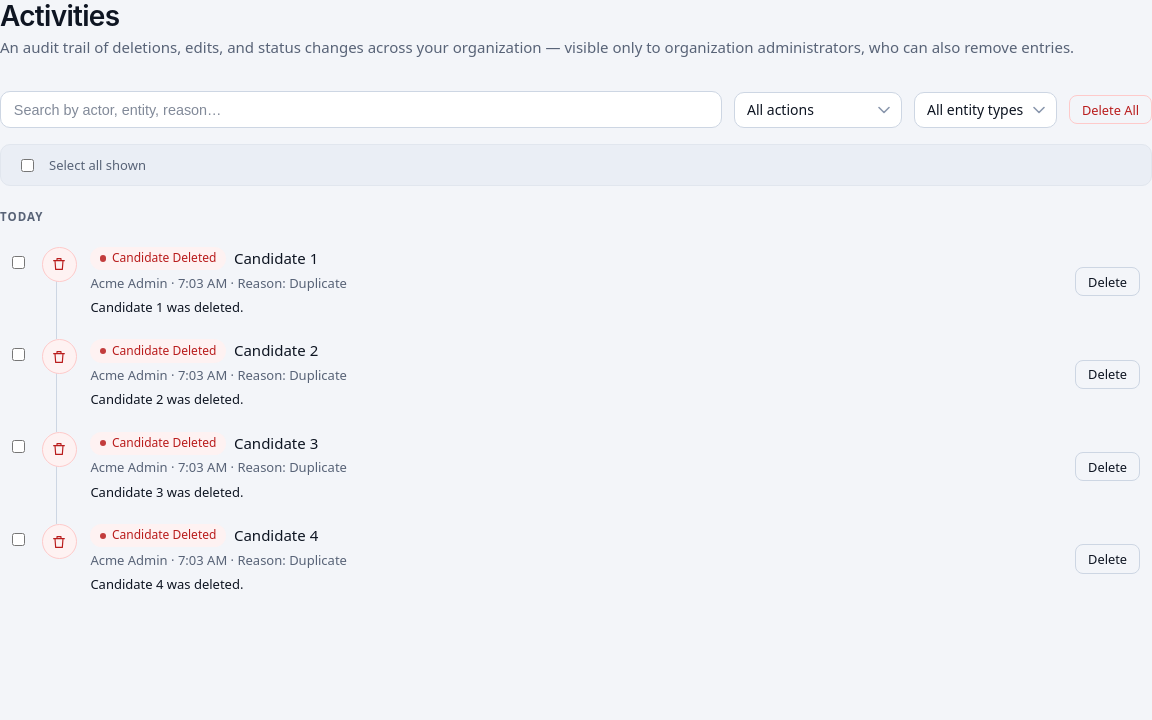
Test: ActivitiesPage selection and bulk delete › deletes exactly the selected activities after confirmation, then refreshes and clears
The width and height of the screenshot is (1152, 720).
Expected: the text "Candidate 1" is shown, [234, 247, 318, 270]
Click the checkbox named "Select activity 1: Candidate 1".
click(18, 262)  # box [12, 256, 25, 268]
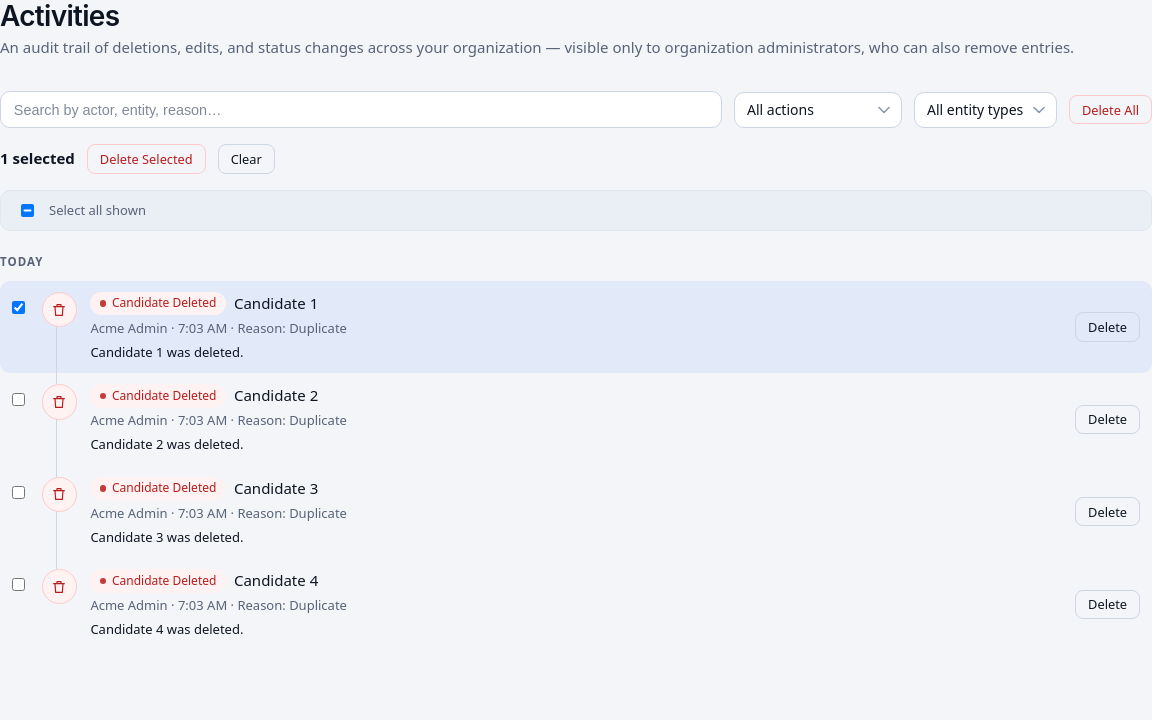
Click the checkbox named "Select activity 2: Candidate 2".
click(18, 400)  # box [12, 393, 25, 406]
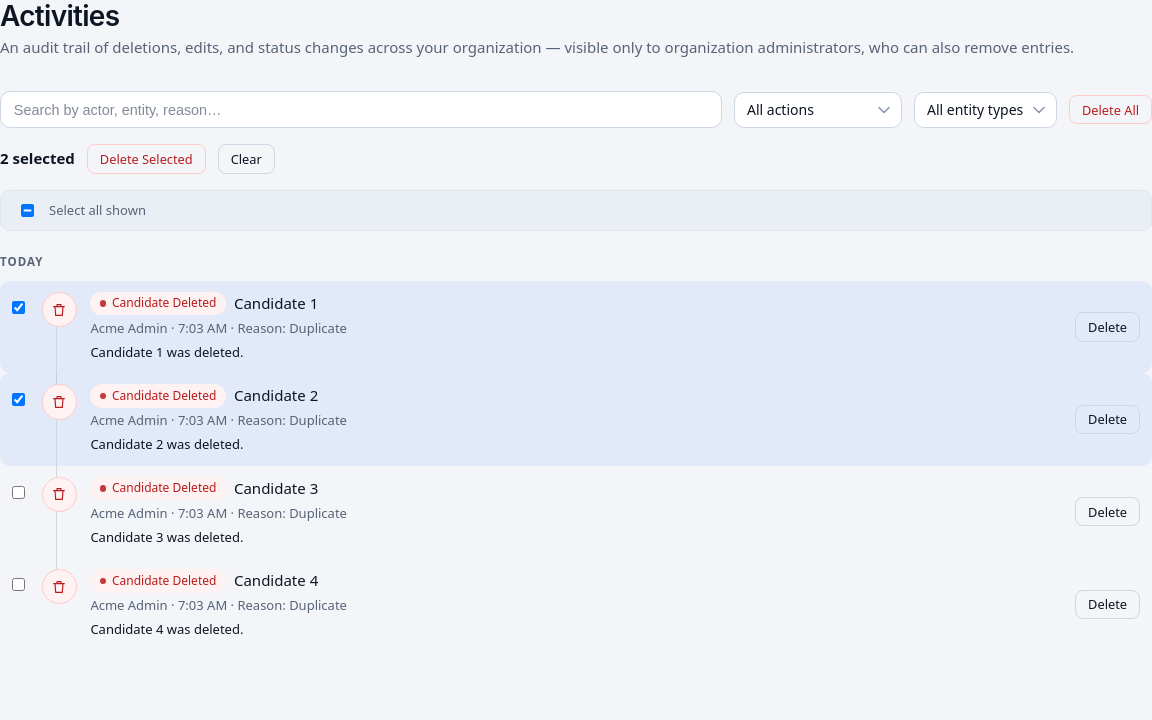
Click the checkbox named "Select activity 4: Candidate 4".
click(18, 584)  # box [12, 578, 25, 591]
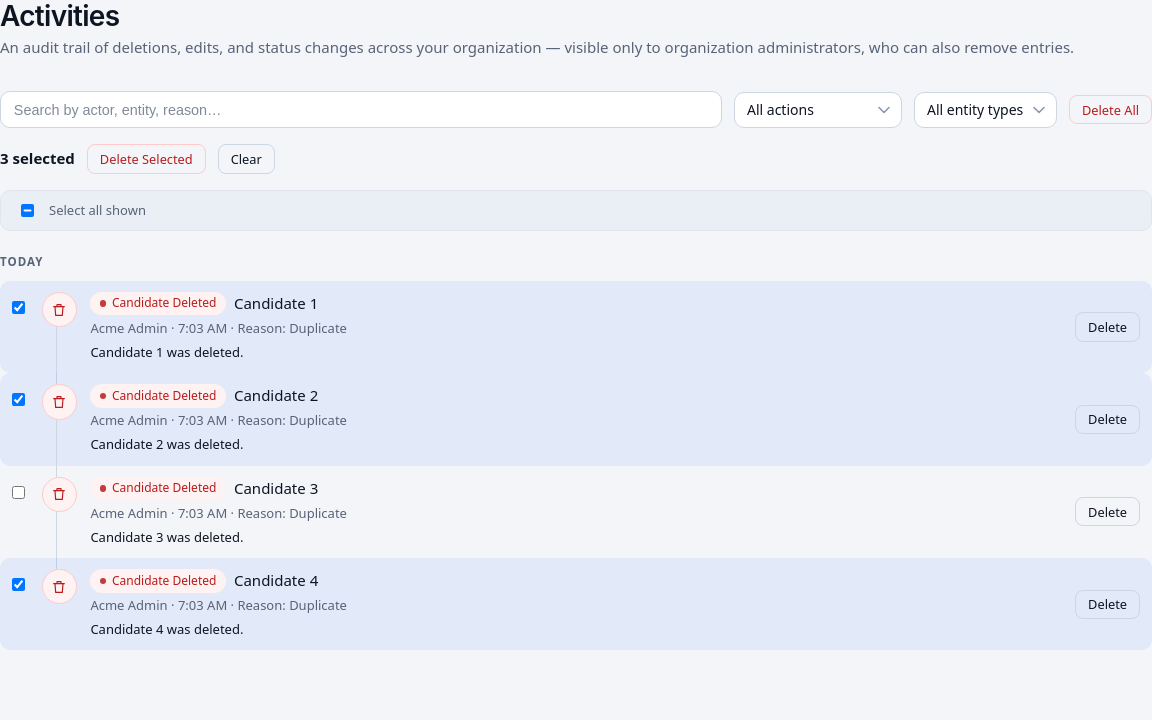
Click the button "Delete Selected".
click(146, 159)  # box [87, 144, 206, 174]
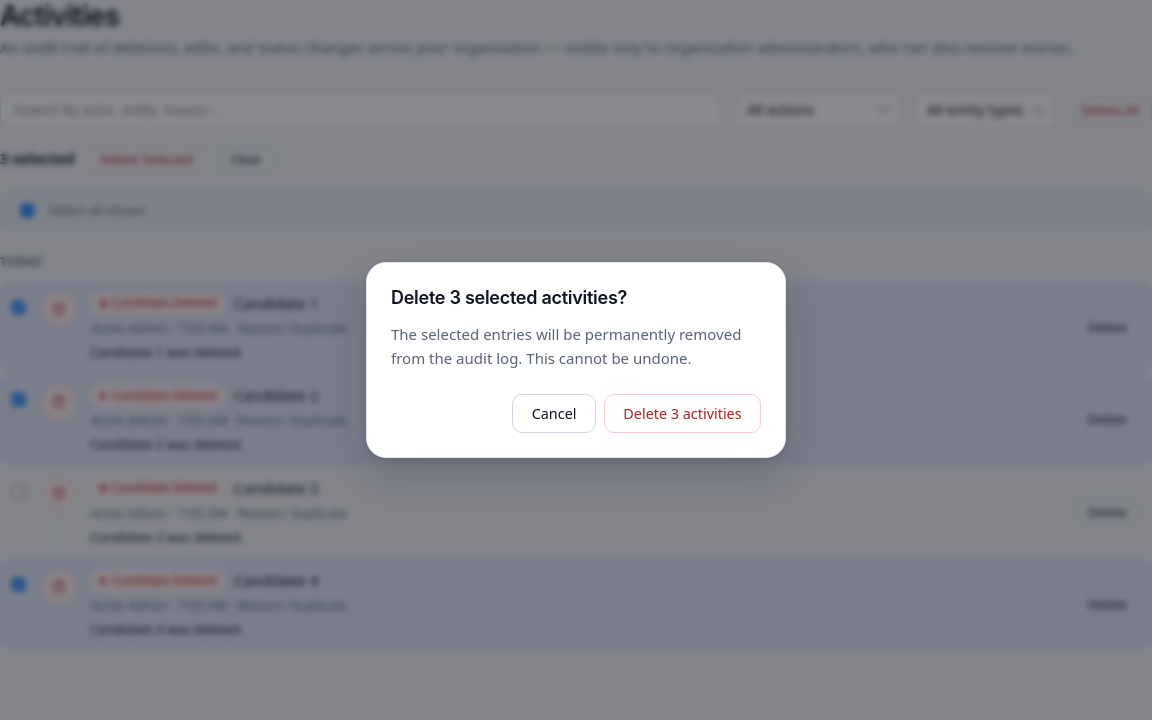
Expected: the heading "Delete 3 selected activities?" is shown, [391, 287, 627, 308]
Click the button "Delete 3 activities".
click(682, 414)  # box [604, 394, 761, 433]
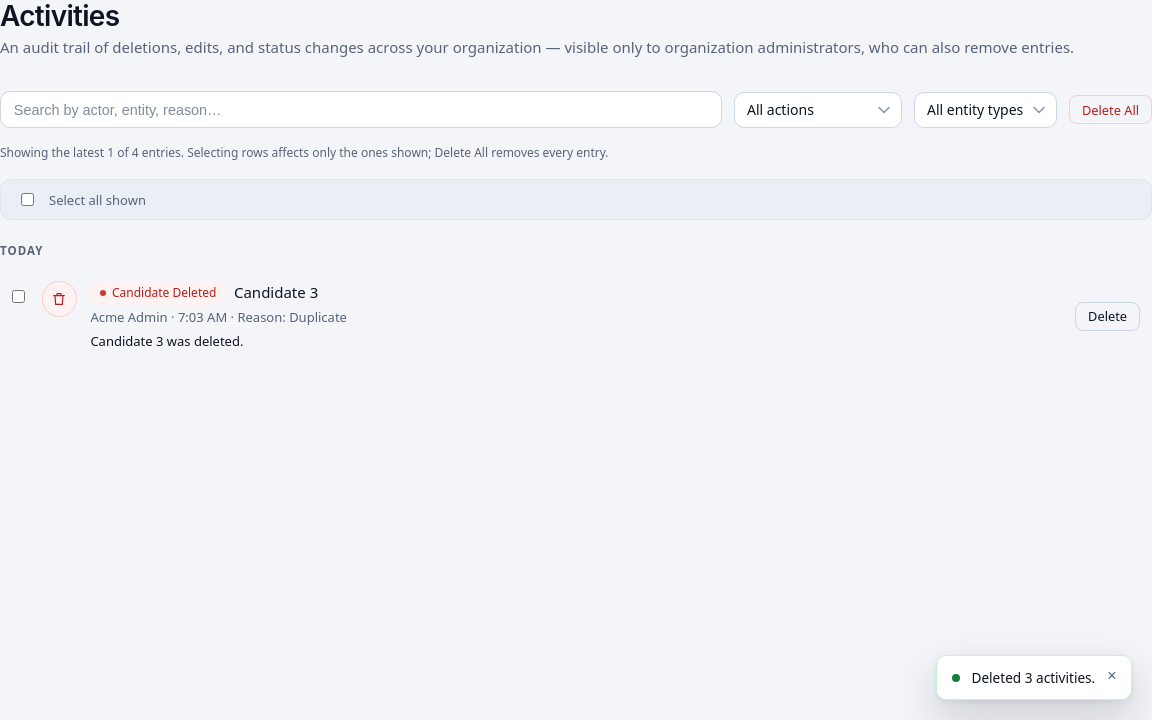
Expected: the text "Deleted 3 activities." is shown, [972, 668, 1095, 687]
Expected: the text "Candidate 1" is gone
Expected: the dialog is gone
